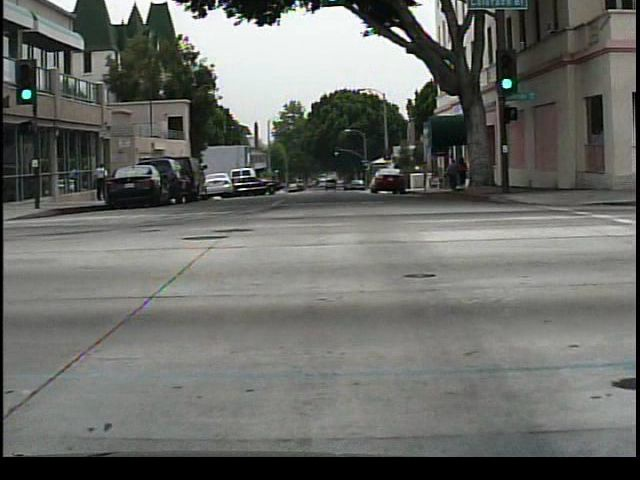person: (95, 155, 109, 205), (442, 159, 460, 193), (463, 154, 464, 195)
